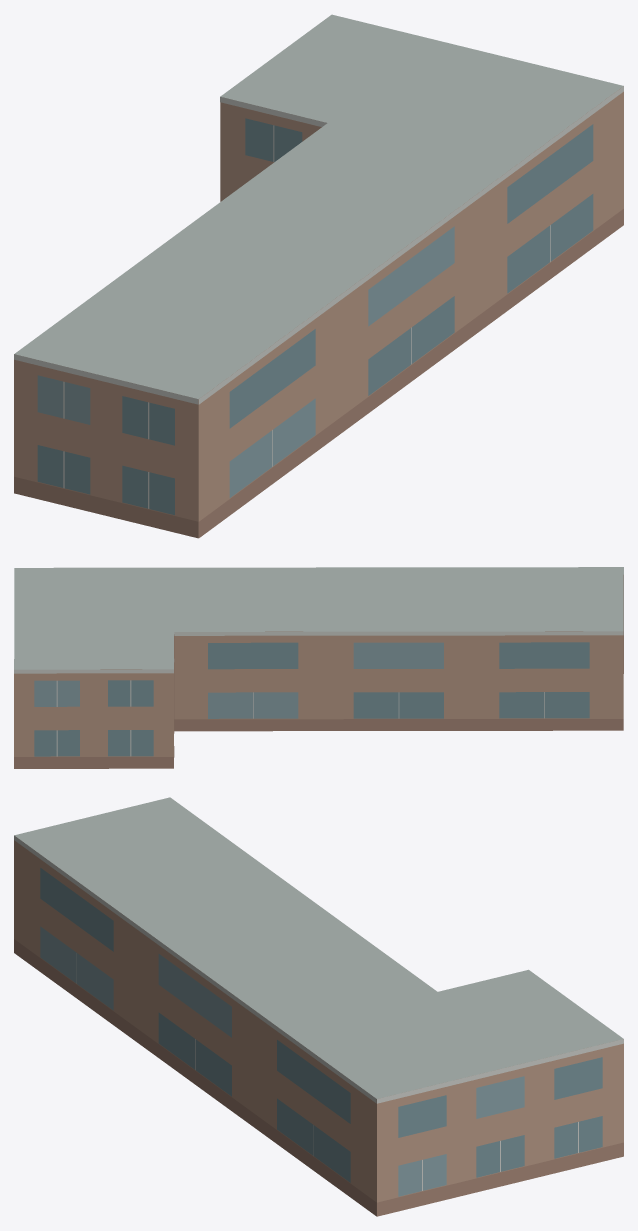
File: survey-upis-32821748.glb
3 renders of one model, top to bottom at view 1: azimuth 30°, elevation 25°; view 2: azimuth 150°, elevation 25°; view 3: azimuth 270°, elevation 25°, orthographic. The views are drawn at different scales.
Parts seen in each view (by area): view 1: survey-upis-32821748.tmp; view 2: survey-upis-32821748.tmp; view 3: survey-upis-32821748.tmp.
Boxes of the visible parts, box(x1,y1,x2,y2) form: survey-upis-32821748.tmp: box(14, 14, 623, 538); survey-upis-32821748.tmp: box(14, 567, 623, 768); survey-upis-32821748.tmp: box(14, 797, 623, 1216).
Size of the model in its own units: 33.58 by 6.1 by 28.68.
